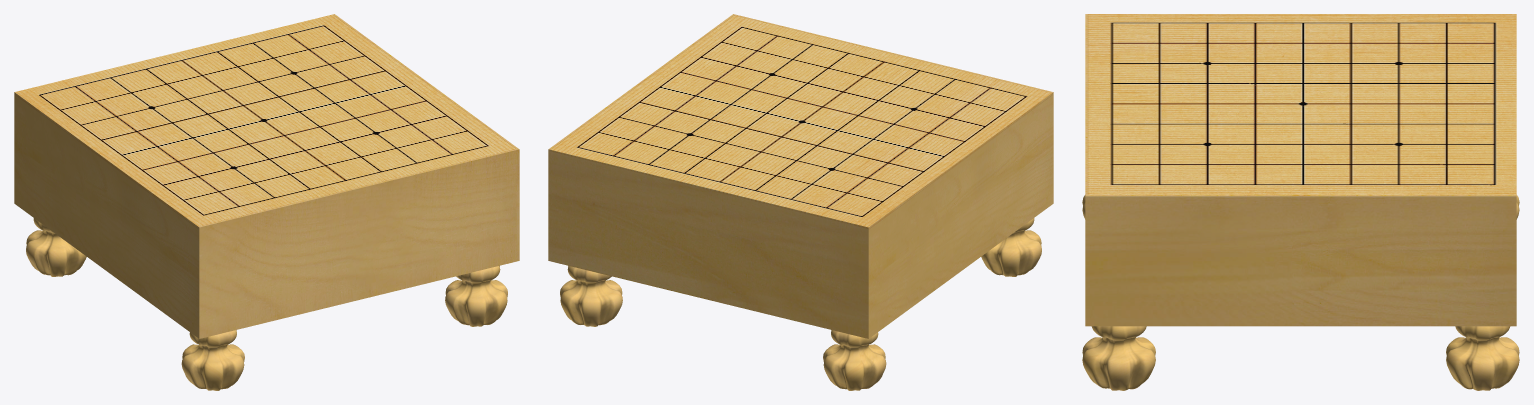
Rendered from goban9x9.gltf.
3 views of the same model, side by side, from view 1: azimuth 30°, elevation 25°; view 2: azimuth 150°, elevation 25°; view 3: azimuth 270°, elevation 25° (orthographic). The views are drawn at different scales.
Parts seen in each view (by area): view 1: goban, Sphere.003; view 2: goban, Sphere.003; view 3: goban, Sphere.003.
Part boxes in pixels (x1,y1,x2,y2): goban: (14,14,519,338); Sphere.003: (26,218,507,390); goban: (548,14,1053,338); Sphere.003: (560,218,1041,390); goban: (1085,14,1516,326); Sphere.003: (1082,195,1519,390).
Size of the model in its own units: 1 by 0.5225 by 1.01.
2 materials, 2 textured.
